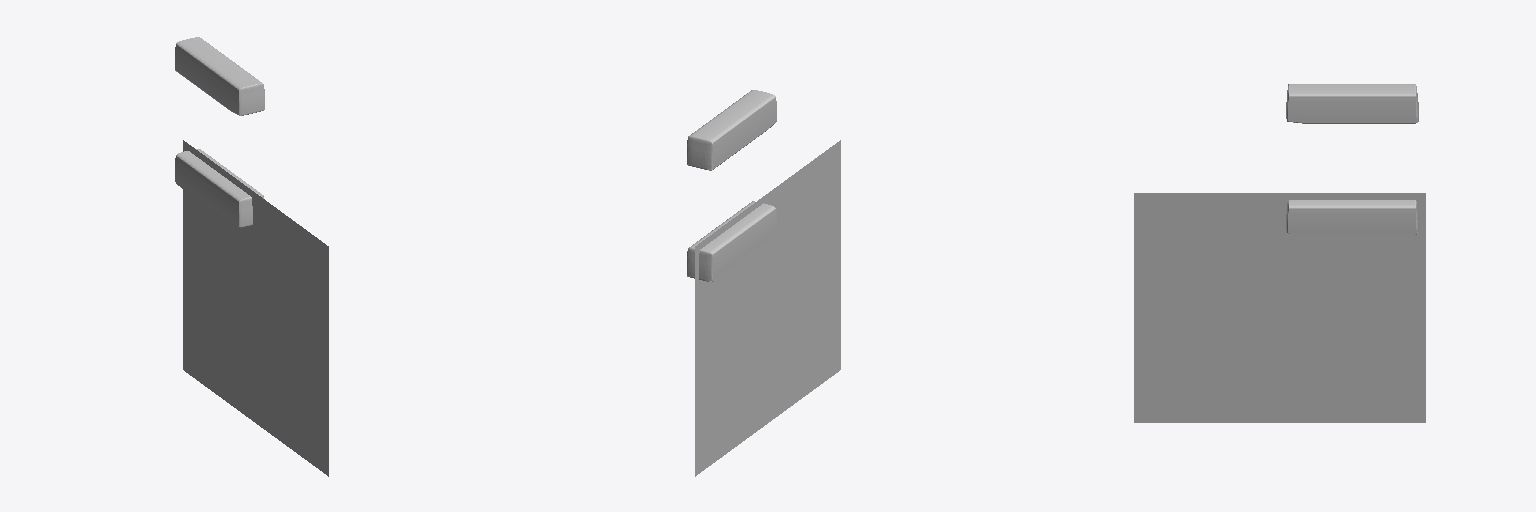
File: Scale.obj
3 renders of one model, left to right at view 1: azimuth 30°, elevation 25°; view 2: azimuth 150°, elevation 25°; view 3: azimuth 270°, elevation 25°, orthographic.
Visible parts, largest first — view 1: Right.006, City_Bus, City_Bus.008; view 2: Right.006, City_Bus, City_Bus.008; view 3: Right.006, City_Bus, City_Bus.008.
Part boxes in pixels (left/top/right/bottom): Right.006: left=183, top=140, right=328, bottom=476; City_Bus: left=175, top=37, right=264, bottom=115; City_Bus.008: left=175, top=149, right=263, bottom=227; Right.006: left=695, top=140, right=840, bottom=476; City_Bus: left=687, top=90, right=776, bottom=170; City_Bus.008: left=687, top=201, right=776, bottom=281; Right.006: left=1134, top=193, right=1425, bottom=422; City_Bus: left=1286, top=84, right=1418, bottom=123; City_Bus.008: left=1286, top=200, right=1418, bottom=235.
Bounding box in the file's own units: 2.46 × 30.03 × 23.72.